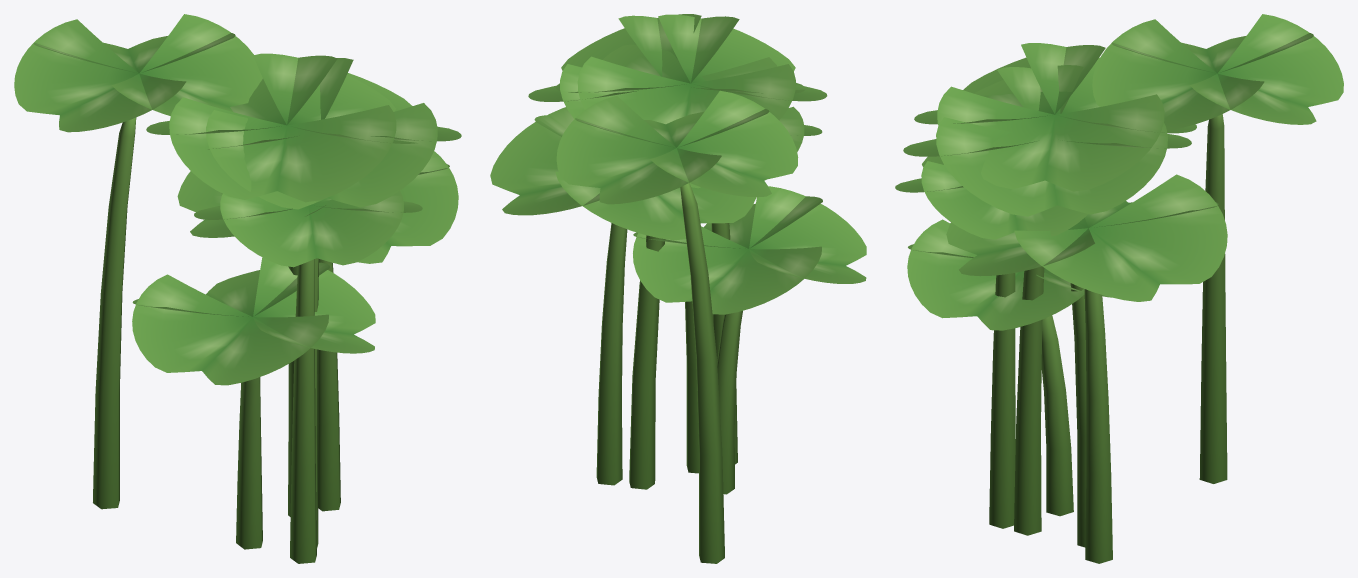
The model's file is Clover_B.fbx.
The picture shows the model from 3 angles, left to right: view 1: azimuth 30°, elevation 25°; view 2: azimuth 150°, elevation 25°; view 3: azimuth 270°, elevation 25°; orthographic projection. The views are drawn at different scales.
Visible parts, largest first — view 1: Clover_B; view 2: Clover_B; view 3: Clover_B.
Boxes of the visible parts, <box> form: Clover_B: <box>14,14,461,563</box>; Clover_B: <box>490,14,866,563</box>; Clover_B: <box>895,14,1343,563</box>.
Bounding box in the file's own units: 1.38 × 1.69 × 1.54.
